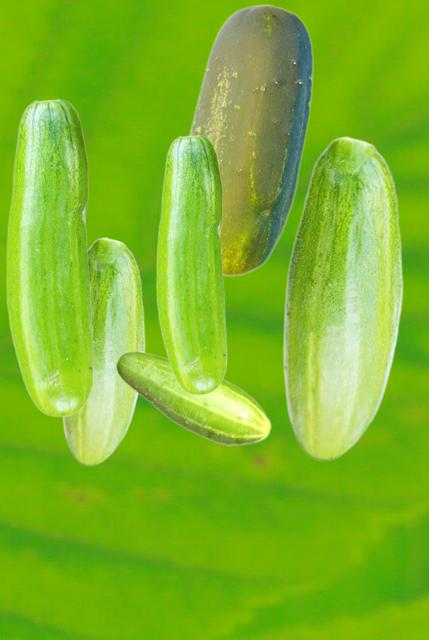cucumber: (282, 136, 402, 460), (186, 3, 312, 276), (6, 98, 93, 416), (60, 237, 144, 465), (156, 134, 226, 394), (115, 350, 271, 446)
